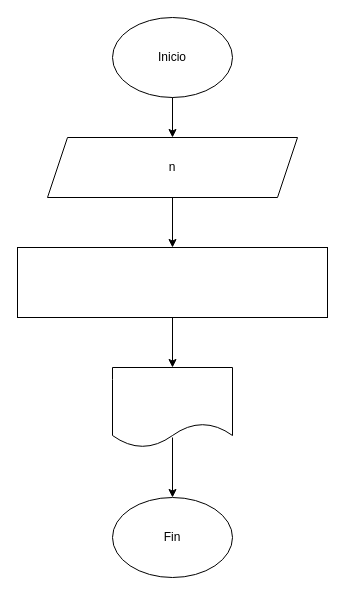
Image size: 345x595. Some labels were removed from this diagram. Here are the shapes that lost their labels. From the top down, the box of each, then its label:
(16, 246, 328, 318): C1 = C1/1 C2 = C2/10 C3 = C3/100 C4 = C4/1000
(112, 366, 232, 448): C1, C2, C3,C4
